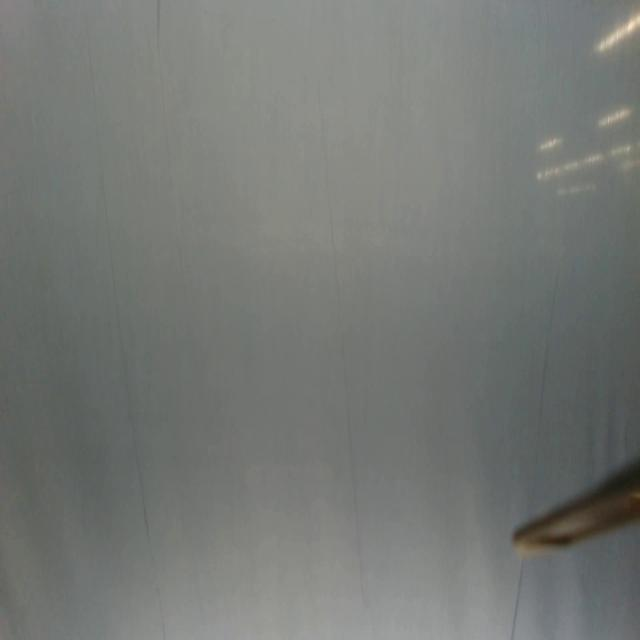crease: (86, 39, 154, 548), (318, 102, 366, 612), (536, 266, 563, 427), (154, 0, 178, 176), (508, 556, 526, 640)
